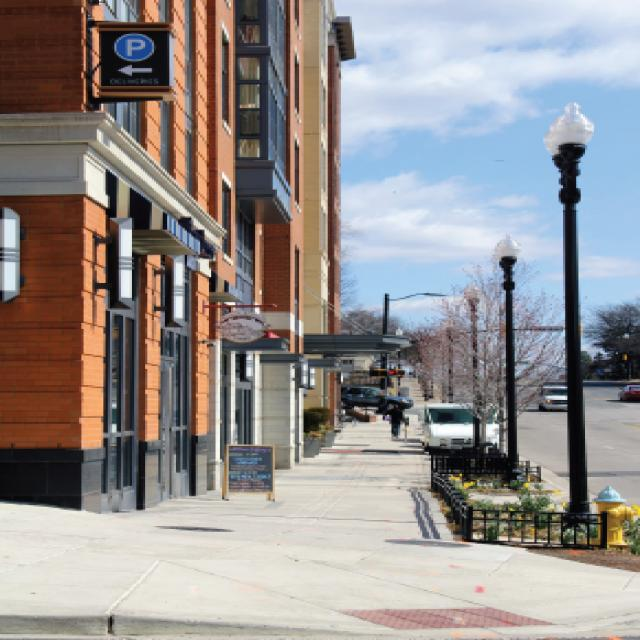Electric pole: (545, 102, 596, 513)
